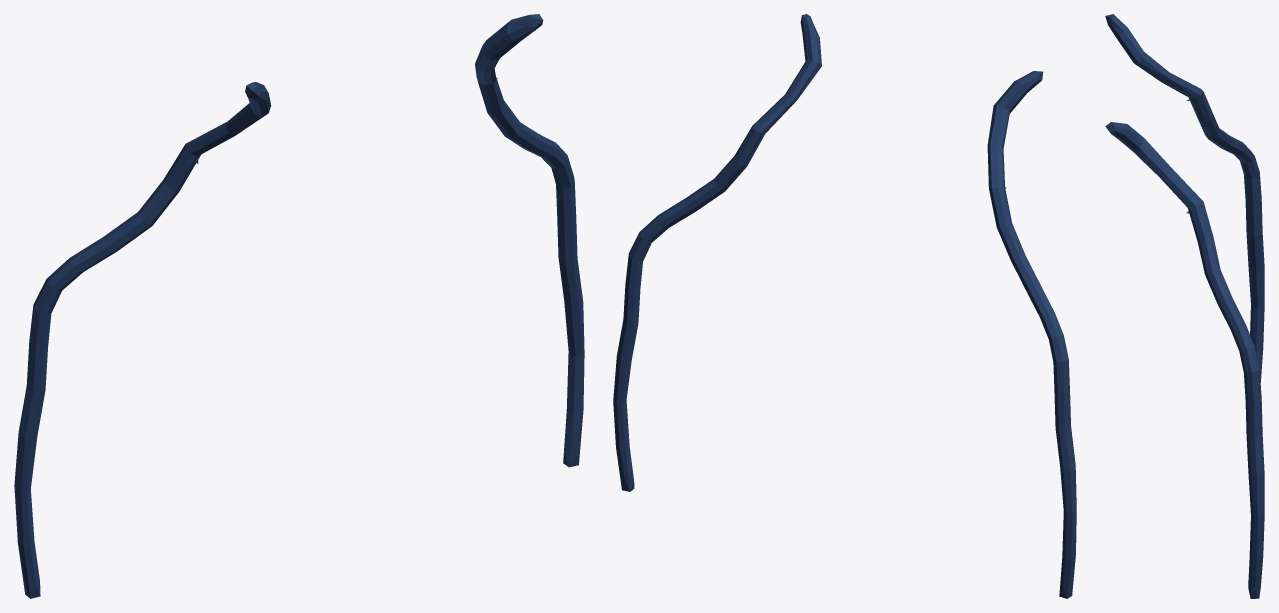
Rendered from Vena Femoral Profunda.FBX.
3 renders of one model, left to right at view 1: azimuth 30°, elevation 25°; view 2: azimuth 150°, elevation 25°; view 3: azimuth 270°, elevation 25°, orthographic. The views are drawn at different scales.
Parts seen in each view (by area): view 1: CS_Veins; view 2: CS_Veins; view 3: CS_Veins.
Boxes of the visible parts, left/top/right/bottom form: CS_Veins: left=14, top=14, right=584, bottom=598; CS_Veins: left=613, top=14, right=1076, bottom=598; CS_Veins: left=1105, top=14, right=1264, bottom=598.
Bounding box in the file's own units: 820 × 754 × 256.
